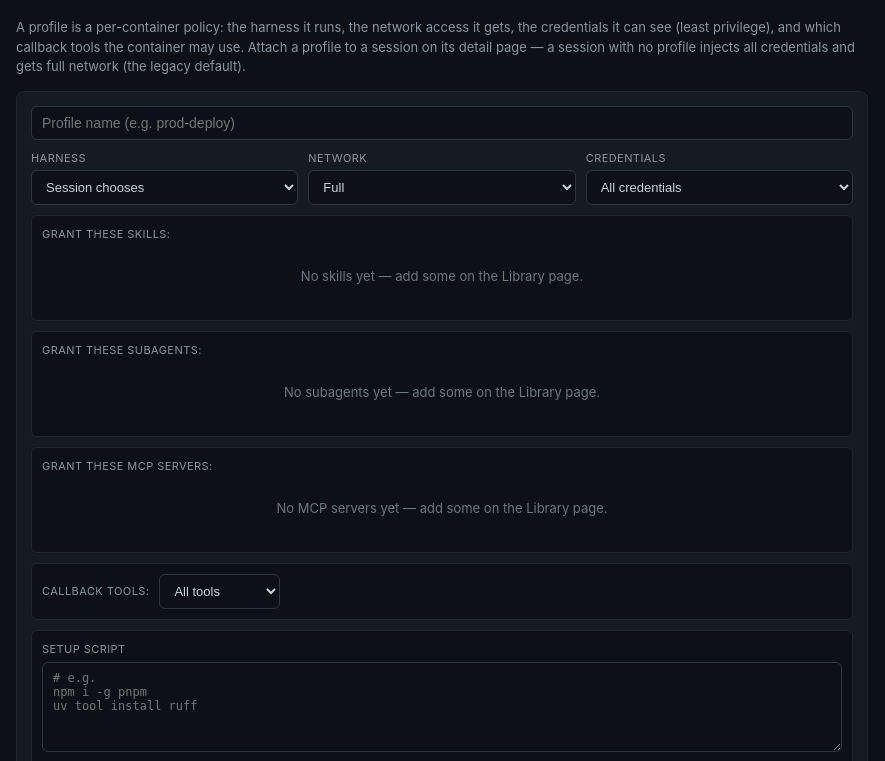
Scenario: Profiles tool enablement (#614/#615/#616) › rejects a selected-mode profile with no tools, client-side, before any save
The width and height of the screenshot is (885, 761).
Type "locked-down" into the field labelled "Profile name".
click(442, 122); type("locked-down")  # box x1=31 y1=106 x2=853 y2=140
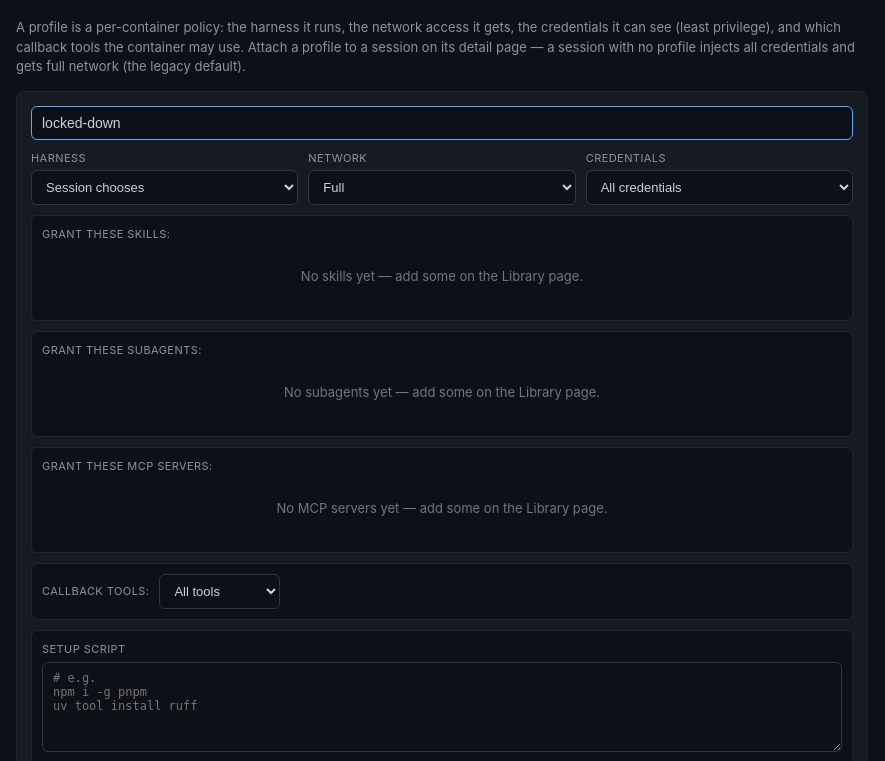
Select "Only selected" in the dropdown named "Callback tools mode" at point(220, 592), box x1=159 y1=574 x2=280 y2=609
(page scrolled)
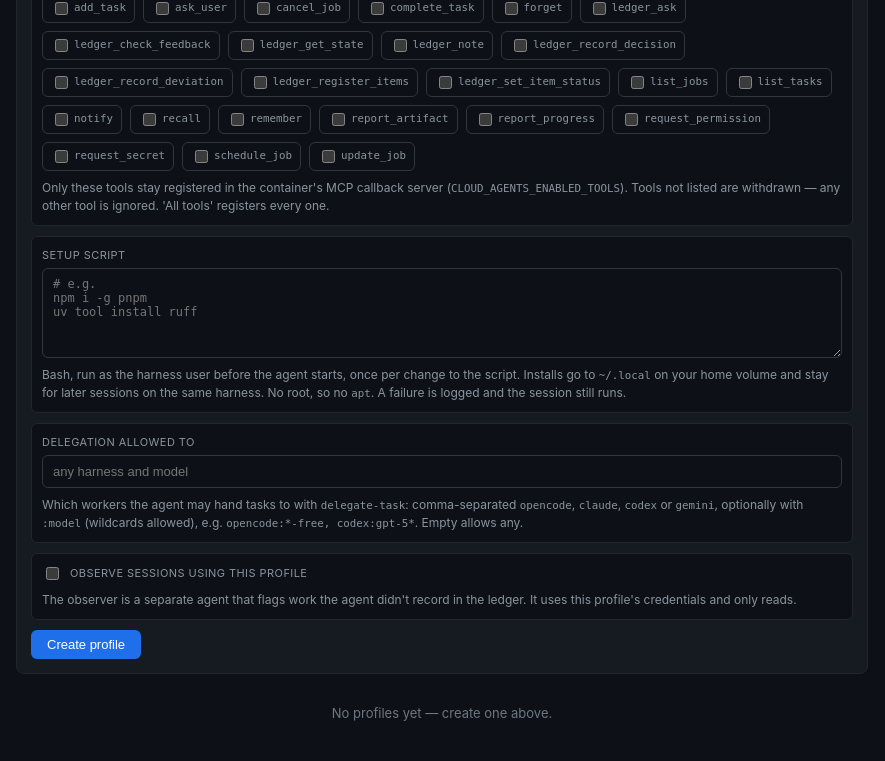
Click the button "Create profile".
click(86, 644)  # box x1=31 y1=630 x2=141 y2=659
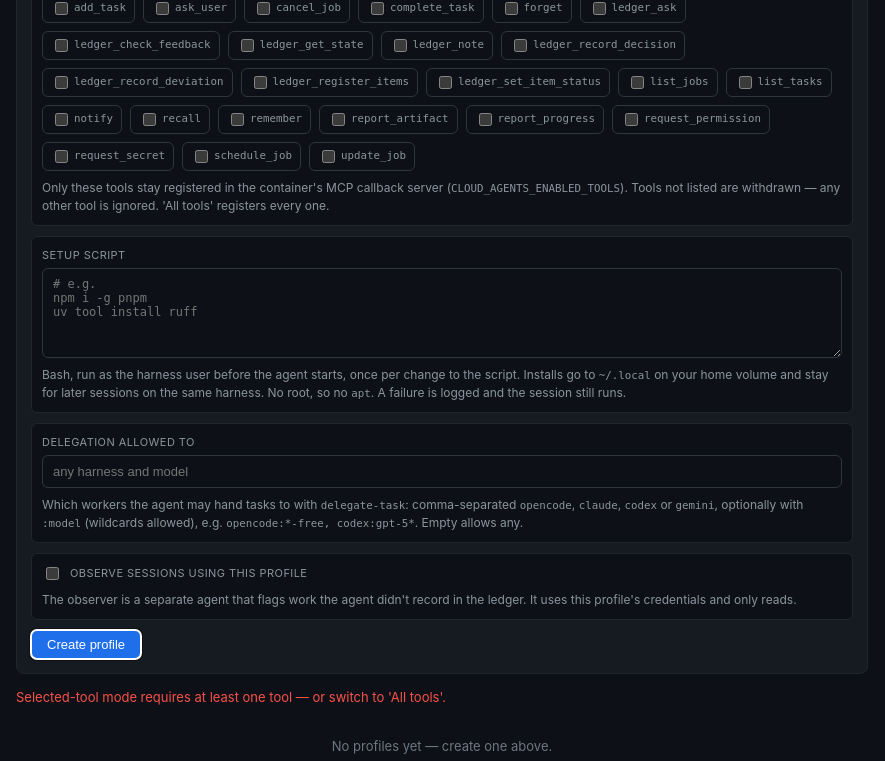
Now the text "Selected-tool mode requires at least one tool — or switch to 'All tools'." is shown, box x1=16 y1=689 x2=446 y2=705
